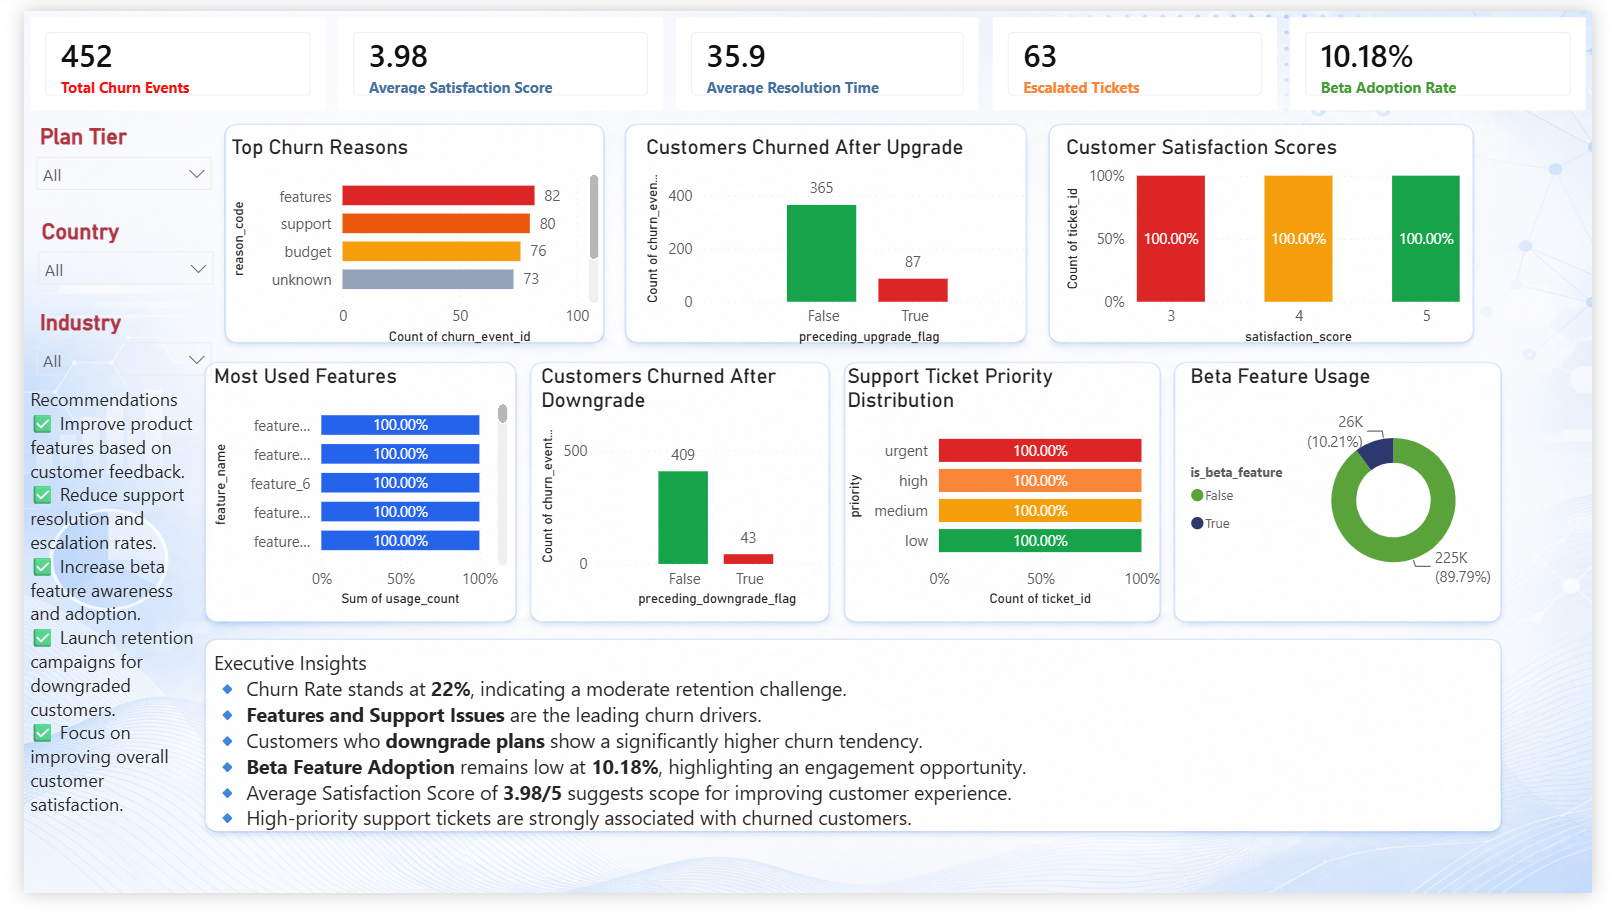

Layout of this report page (visuals, bound fields, positions):
{"tool":"powerbi","page":{"name":"Page 2","canvas":[1280,720],"ordinal":1},"visuals":[{"type":"cardVisual","fields":{"Data":["Dim_Customers.Total Churn Events"]},"box":[0,0,251.8,86.9],"z":0},{"type":"cardVisual","fields":{"Data":["Dim_Customers.Average Satisfaction Score"]},"box":[251.8,0,275.8,86.9],"z":1000},{"type":"cardVisual","fields":{"Data":["Dim_Customers.Average Resolution Time"]},"box":[527.6,0,257.8,86.9],"z":2000},{"type":"cardVisual","fields":{"Data":["Dim_Customers.Escalated Tickets"]},"box":[785.4,0,242.8,86.9],"z":3000},{"type":"clusteredBarChart","title":"Top Churn Reasons","fields":{"Category":["Fact_ChurnEvents.reason_code"],"Y":["CountNonNull(Fact_ChurnEvents.churn_event_id)"]},"box":[163.8,101.1,309.8,175.4],"z":4000},{"type":"columnChart","title":"Customers Churned After Upgrade","fields":{"Category":["Fact_ChurnEvents.preceding_upgrade_flag"],"Y":["CountNonNull(Fact_ChurnEvents.churn_event_id)"]},"box":[503,101.1,326.4,175.4],"z":5000},{"type":"columnChart","title":"Customers Churned After Downgrade","fields":{"Category":["Fact_ChurnEvents.preceding_downgrade_flag"],"Y":["CountNonNull(Fact_ChurnEvents.churn_event_id)"]},"box":[417.3,289.3,249.6,202.2],"z":6000},{"type":"hundredPercentStackedColumnChart","title":"Customer Satisfaction Scores","fields":{"Category":["Fact_SupportTickets.satisfaction_score"],"Y":["CountNonNull(Fact_SupportTickets.ticket_id)"]},"box":[846.1,101.1,331.5,175.4],"z":7000},{"type":"hundredPercentStackedBarChart","title":"Support Ticket Priority Distribution","fields":{"Category":["Fact_SupportTickets.priority"],"Y":["CountNonNull(Fact_SupportTickets.ticket_id)"]},"box":[666.9,289.3,265,202.2],"z":8000},{"type":"hundredPercentStackedBarChart","title":"Most Used Features","fields":{"Category":["Fact_Usage.feature_name"],"Y":["Sum(Fact_Usage.usage_count)"]},"box":[149.8,289.3,249.6,202.2],"z":9000},{"type":"donutChart","title":"Beta Feature Usage","fields":{"Category":["Fact_Usage.is_beta_feature"],"Y":["Sum(Fact_Usage.usage_count)"]},"box":[947.2,289.3,257.3,202.2],"z":10000},{"type":"slicer","fields":{"Values":["Dim_Customers.country"]},"box":[1.5,164.9,163.4,73.4],"z":11000},{"type":"slicer","fields":{"Values":["Dim_Customers.industry"]},"box":[0,238.3,163.4,80.9],"z":12000},{"type":"slicer","fields":{"Values":["Dim_Customers.plan_tier"]},"box":[0,86.9,163.4,77.9],"z":13000},{"type":"cardVisual","fields":{"Data":["Dim_Customers.Beta Adoption Rate"]},"box":[1028.2,0,251.8,86.9],"z":14000},{"type":"textbox","box":[149.9,515.6,1043.2,160.4],"z":15000},{"type":"textbox","box":[0,301.3,149.9,418.2],"z":16000}]}

Visuals, with their boxes in screenshot pixels (x1, y1, x2, y2), scaled from the page's 1280x720 canvas onto the 1611x918 screenshot:
cardVisual - Dim_Customers.Total Churn Events: rect(0, 0, 317, 111)
cardVisual - Dim_Customers.Average Satisfaction Score: rect(317, 0, 664, 111)
cardVisual - Dim_Customers.Average Resolution Time: rect(664, 0, 988, 111)
cardVisual - Dim_Customers.Escalated Tickets: rect(988, 0, 1294, 111)
"Top Churn Reasons" clusteredBarChart: rect(206, 129, 596, 353)
"Customers Churned After Upgrade" columnChart: rect(633, 129, 1044, 353)
"Customers Churned After Downgrade" columnChart: rect(525, 369, 839, 627)
"Customer Satisfaction Scores" hundredPercentStackedColumnChart: rect(1065, 129, 1482, 353)
"Support Ticket Priority Distribution" hundredPercentStackedBarChart: rect(839, 369, 1173, 627)
"Most Used Features" hundredPercentStackedBarChart: rect(189, 369, 503, 627)
"Beta Feature Usage" donutChart: rect(1192, 369, 1516, 627)
slicer - Dim_Customers.country: rect(2, 210, 208, 304)
slicer - Dim_Customers.industry: rect(0, 304, 206, 407)
slicer - Dim_Customers.plan_tier: rect(0, 111, 206, 210)
cardVisual - Dim_Customers.Beta Adoption Rate: rect(1294, 0, 1610, 111)
textbox: rect(189, 657, 1502, 862)
textbox: rect(0, 384, 189, 917)
